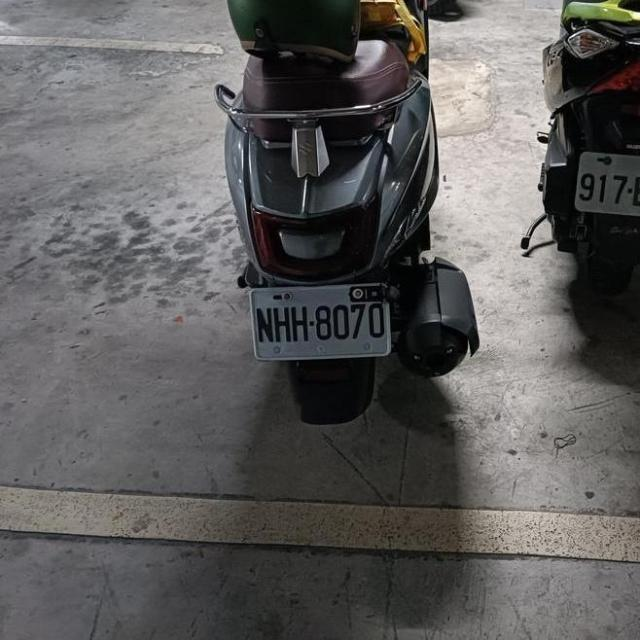W: (248, 278, 393, 364), (572, 147, 640, 222)
